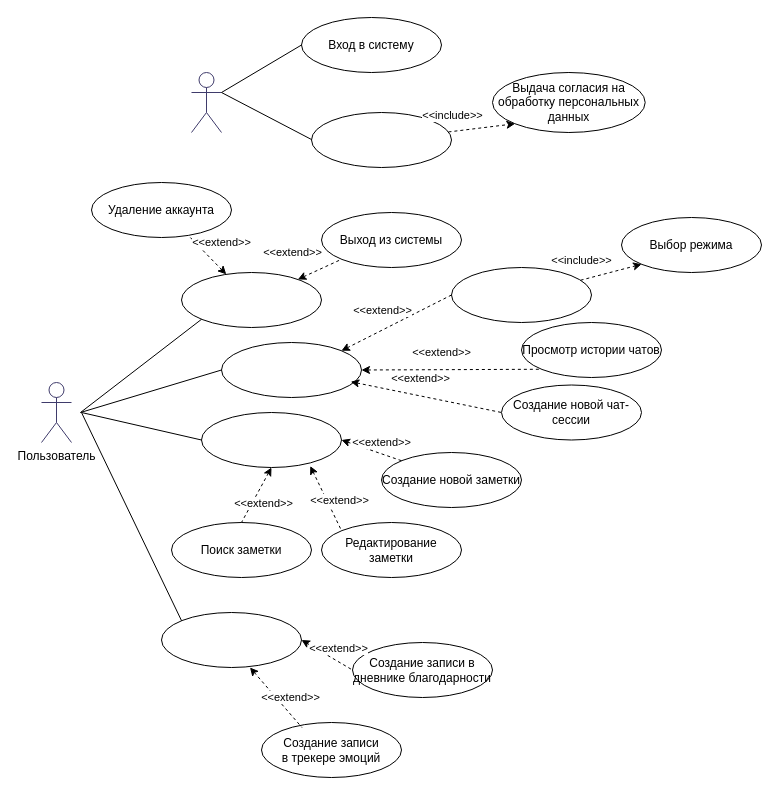
Some shapes in this 779 by 795 pixel diagram are drawn without their labels. Each missing label, with the centre of its shape:
"Гость" belongs at pixel 206 102.
"Отправка сообщений в чат" belongs at pixel 521 294.
"Просмотр записей в трекере и дневнике" belongs at pixel 231 640.
"Просмотр профиля" belongs at pixel 251 300.
"Просмотр списка заметок" belongs at pixel 271 440.
"Просмотр экрана чата" belongs at pixel 291 370.
"Регистрация" belongs at pixel 381 140.
